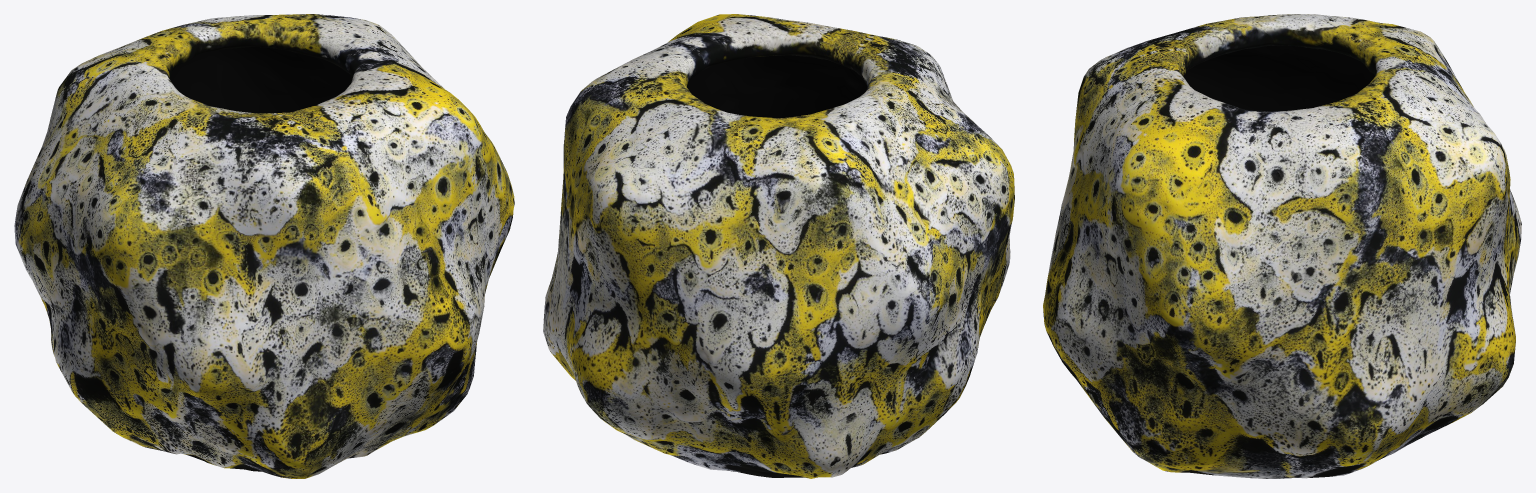
The model's file is vase_01_yellow.glb.
The picture shows the model from 3 angles, left to right: view 1: azimuth 30°, elevation 25°; view 2: azimuth 150°, elevation 25°; view 3: azimuth 270°, elevation 25°; orthographic projection. The views are drawn at different scales.
Visible parts, largest first — view 1: Small_ar; view 2: Small_ar; view 3: Small_ar.
Boxes of the visible parts, <box> form: Small_ar: <box>14,14,514,478</box>; Small_ar: <box>543,14,1014,478</box>; Small_ar: <box>1043,14,1521,478</box>.
Bounding box in the file's own units: 0.2098 × 0.1797 × 0.2066.
Materials: 2 (1 with a texture image).
